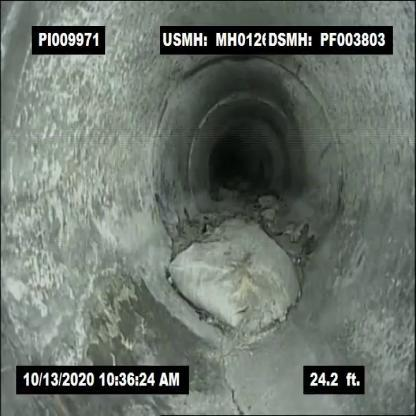Obstacle: (146, 187, 331, 348)
